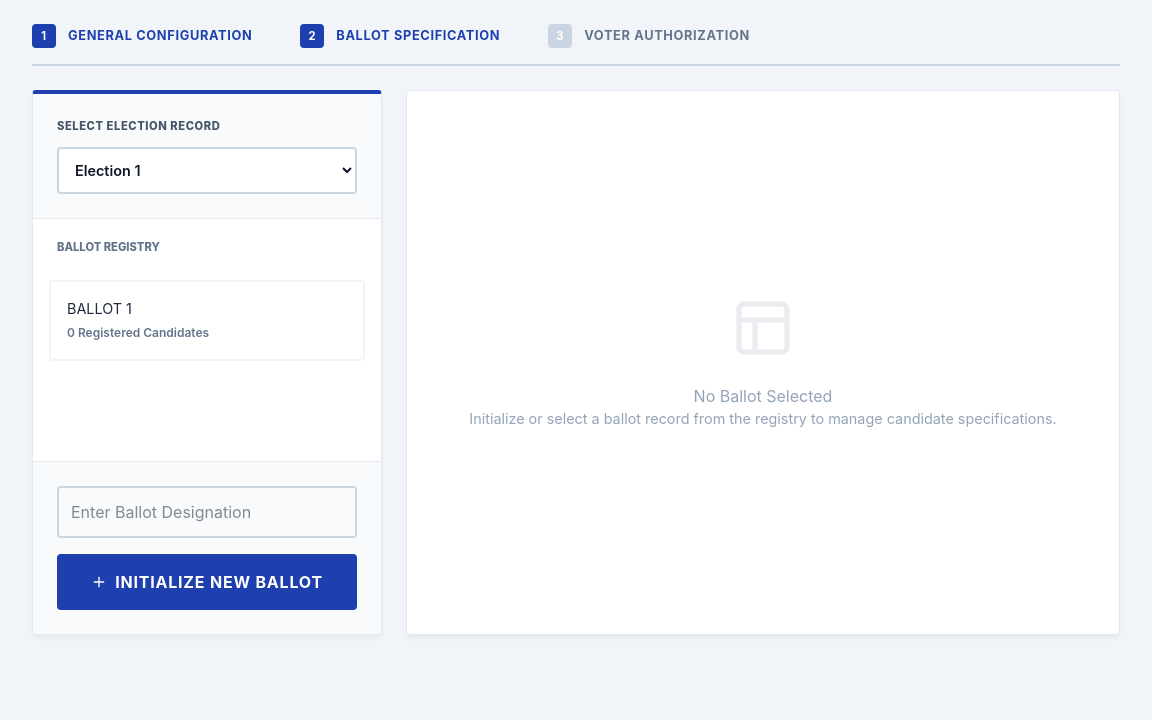
Scenario: BallotDesigner › handles file upload for candidate image
The image size is (1152, 720).
Check: the heading "Ballot 1" is shown, box [67,300,132,317]
Click the text "Ballot 1": point(207, 320) [49,280,365,361]
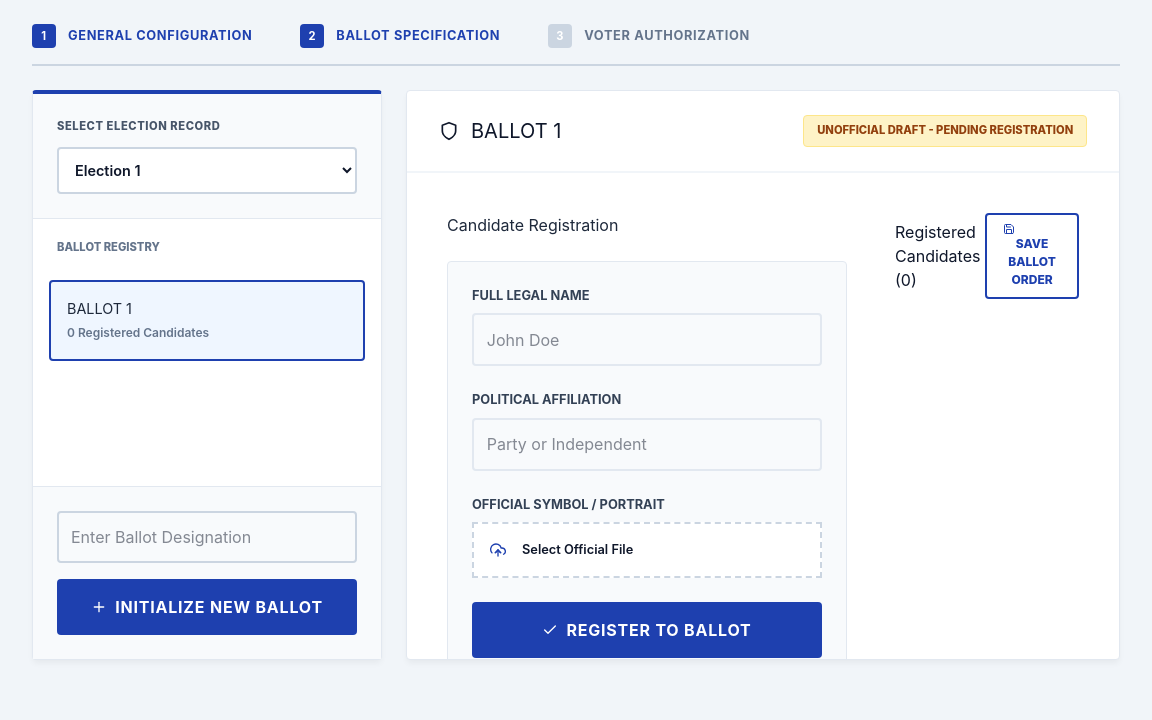
Check: the file field labelled "Select Official File" is shown, box [472,522,822,578]
